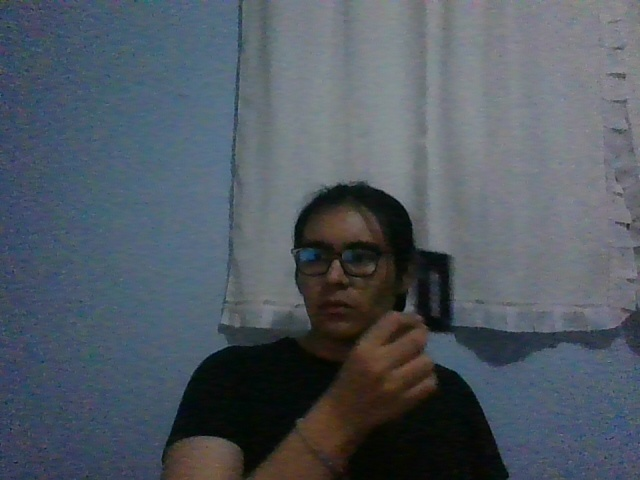tarjeta: (412, 249, 454, 333)
